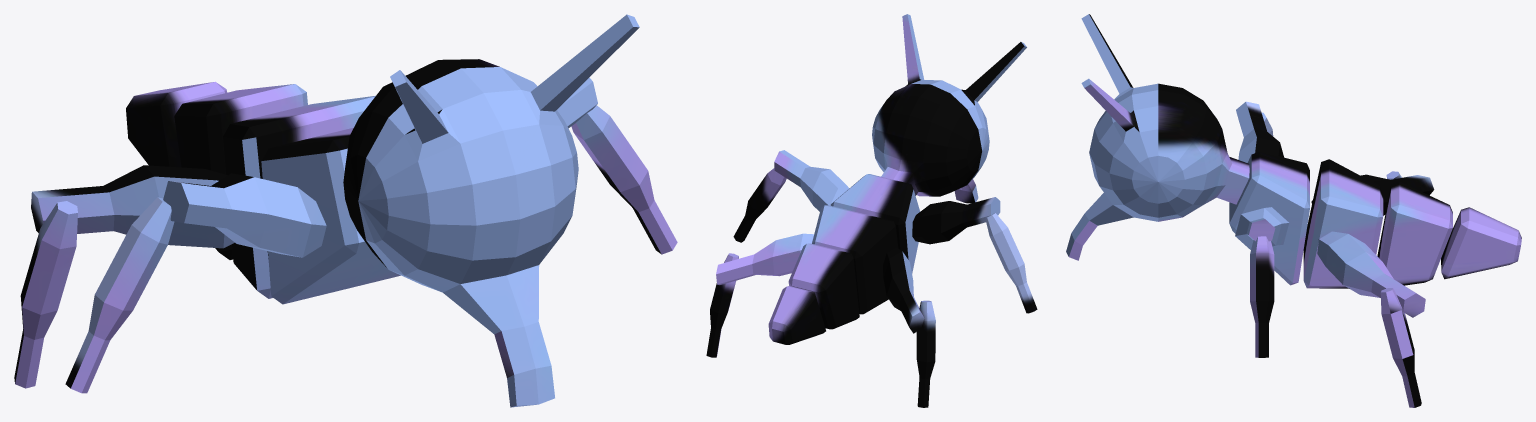
File: Flyx.glb
The picture shows the model from 3 angles, left to right: view 1: azimuth 30°, elevation 25°; view 2: azimuth 150°, elevation 25°; view 3: azimuth 270°, elevation 25°; orthographic projection. The views are drawn at different scales.
Parts seen in each view (by area): view 1: Flyx; view 2: Flyx; view 3: Flyx.
Part boxes in pixels (x1,y1,x2,y2): Flyx: (14, 14, 677, 407); Flyx: (706, 14, 1037, 407); Flyx: (1066, 14, 1521, 407).
Size of the model in its own units: 0.5882 by 0.4725 by 0.6587.
Materials: 1 (1 with a texture image).
